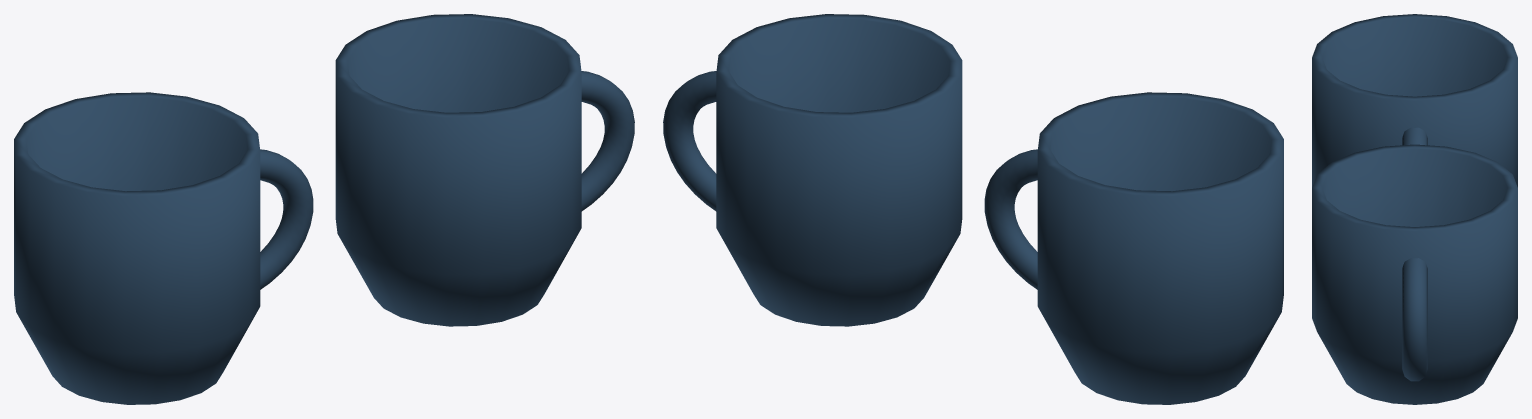
Rendered from i_cups_1.glb.
The picture shows the model from 3 angles, left to right: view 1: azimuth 30°, elevation 25°; view 2: azimuth 150°, elevation 25°; view 3: azimuth 270°, elevation 25°; orthographic projection. The views are drawn at different scales.
Visible parts, largest first — view 1: o.002, o, o.003, o.001; view 2: o.002, o, o.003, o.001; view 3: o.002, o, o.003, o.001.
Boxes of the visible parts, left/top/right/bottom form: o.002: left=335, top=14, right=581, bottom=326; o: left=14, top=92, right=260, bottom=404; o.003: left=581, top=71, right=634, bottom=211; o.001: left=260, top=149, right=313, bottom=289; o.002: left=716, top=14, right=962, bottom=326; o: left=1037, top=92, right=1283, bottom=404; o.003: left=663, top=71, right=716, bottom=211; o.001: left=984, top=149, right=1037, bottom=289; o.002: left=1312, top=144, right=1517, bottom=404; o: left=1312, top=14, right=1517, bottom=187; o.003: left=1402, top=258, right=1427, bottom=381; o.001: left=1402, top=127, right=1427, bottom=145.
Size of the model in its own units: 0.225 by 0.08 by 0.08.
